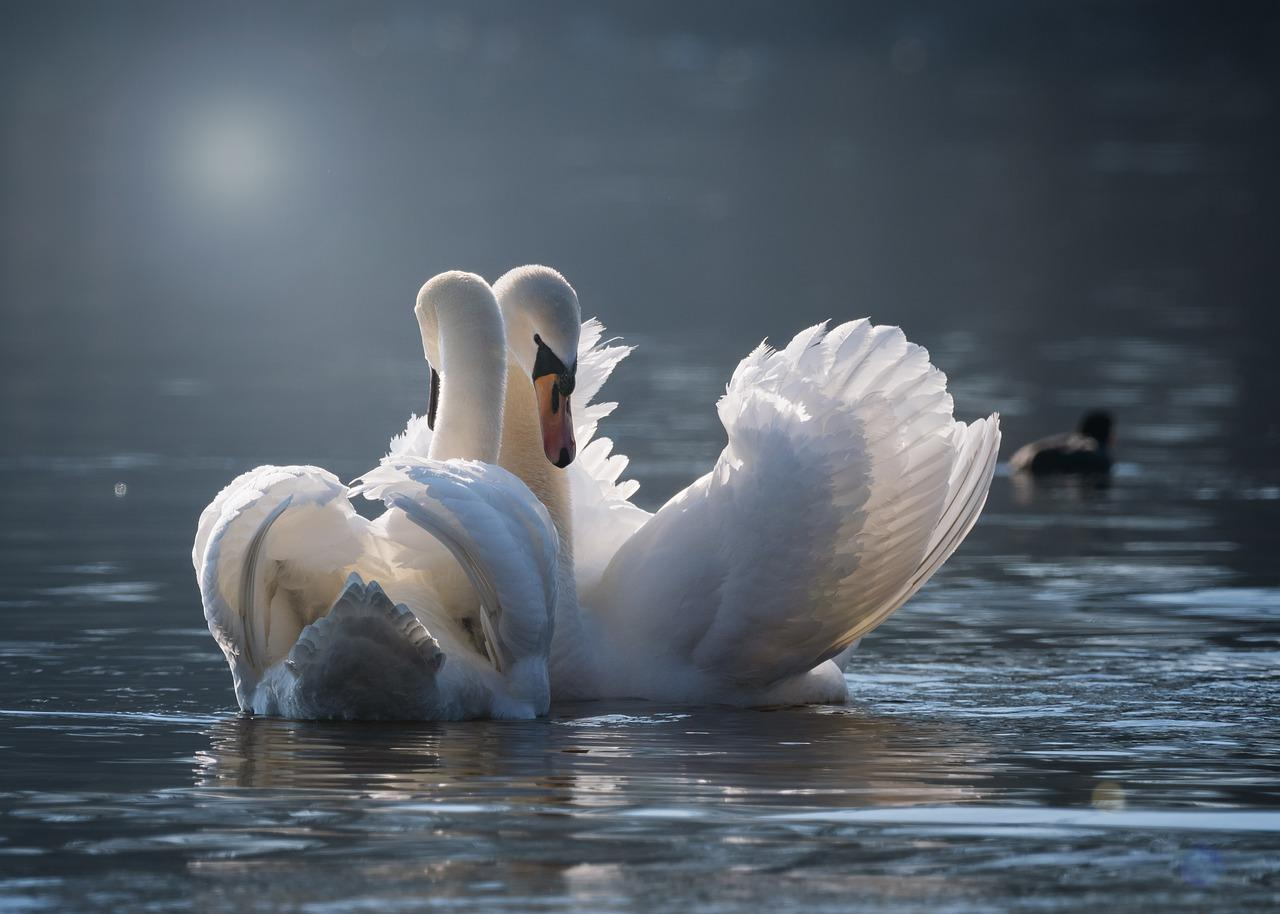bird: (192, 265, 997, 718)
